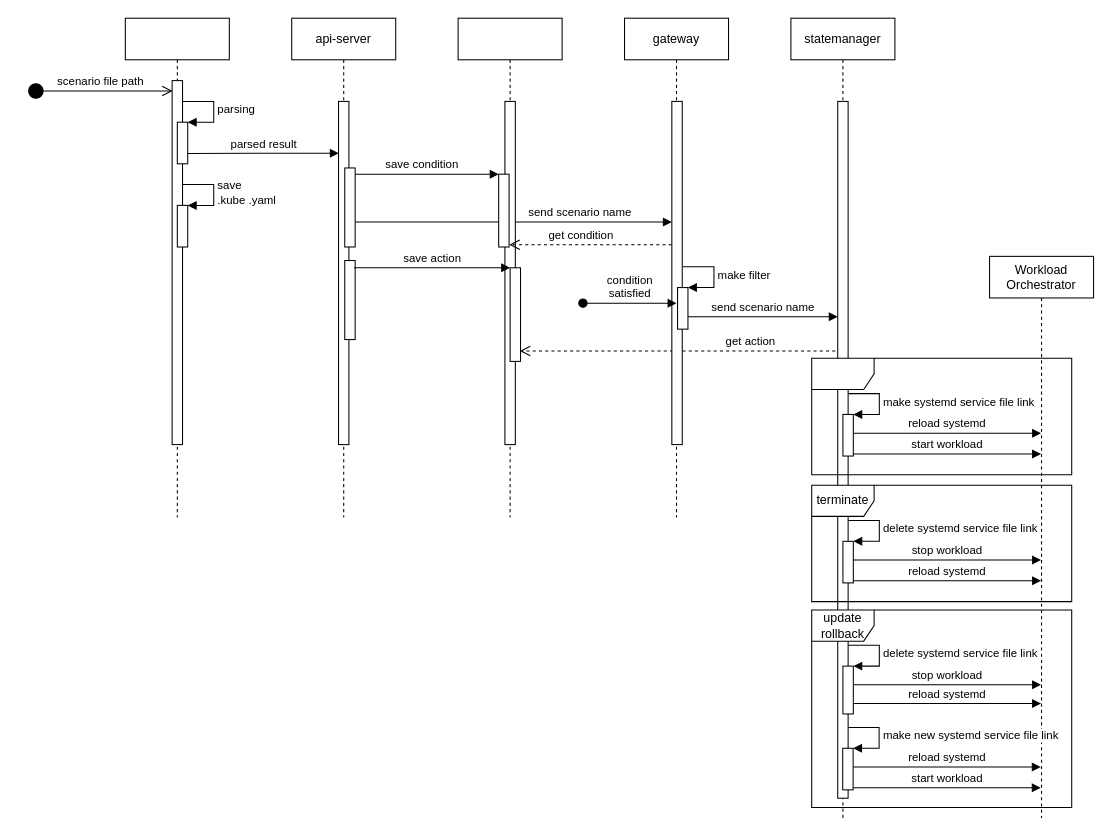
Image size: 1112x836. Some labels were removed from this diagram. Each missing label, with the centre of its shape:
etcd: (x=509, y=267)
launch: (x=941, y=416)
yamlparser: (x=176, y=267)
